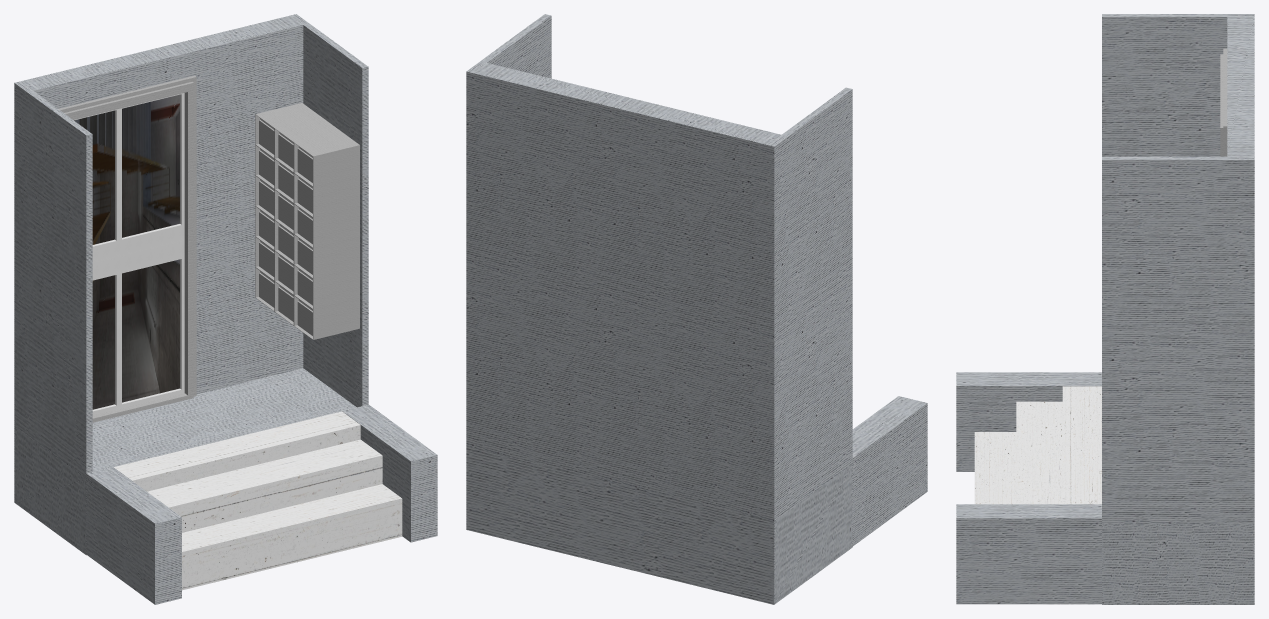
The model's file is 60iesBlock MainDoorSchmal.glb.
3 views of the same model, side by side, from view 1: azimuth 30°, elevation 25°; view 2: azimuth 150°, elevation 25°; view 3: azimuth 270°, elevation 25° (orthographic). The views are drawn at different scales.
Visible parts, largest first — view 1: Cube.016, Cube.017, Cube.007, Cube.008, Cube.005, Cube.015, Cube.006; view 2: Cube.016, Cube.005, Cube.015; view 3: Cube.016, Cube.006, Cube.007, Cube.005, Cube.015, Cube.017.
Part boxes in pixels (x1=…): Cube.016: x1=14, y1=14, x2=368, y2=478; Cube.017: x1=58, y1=75, x2=196, y2=422; Cube.007: x1=113, y1=411, x2=402, y2=590; Cube.008: x1=255, y1=103, x2=359, y2=339; Cube.005: x1=14, y1=368, x2=356, y2=555; Cube.015: x1=86, y1=467, x2=181, y2=604; Cube.006: x1=342, y1=404, x2=437, y2=542; Cube.016: x1=466, y1=14, x2=852, y2=521; Cube.005: x1=466, y1=446, x2=852, y2=604; Cube.015: x1=852, y1=396, x2=927, y2=546; Cube.016: x1=1102, y1=14, x2=1254, y2=523; Cube.006: x1=956, y1=504, x2=1101, y2=604; Cube.007: x1=974, y1=386, x2=1101, y2=504; Cube.005: x1=1102, y1=523, x2=1254, y2=604; Cube.015: x1=956, y1=372, x2=1101, y2=471; Cube.017: x1=1220, y1=48, x2=1227, y2=156.
Bounding box in the file's own units: 5.73 × 8.14 × 4.94.
6 materials, 6 textured.
